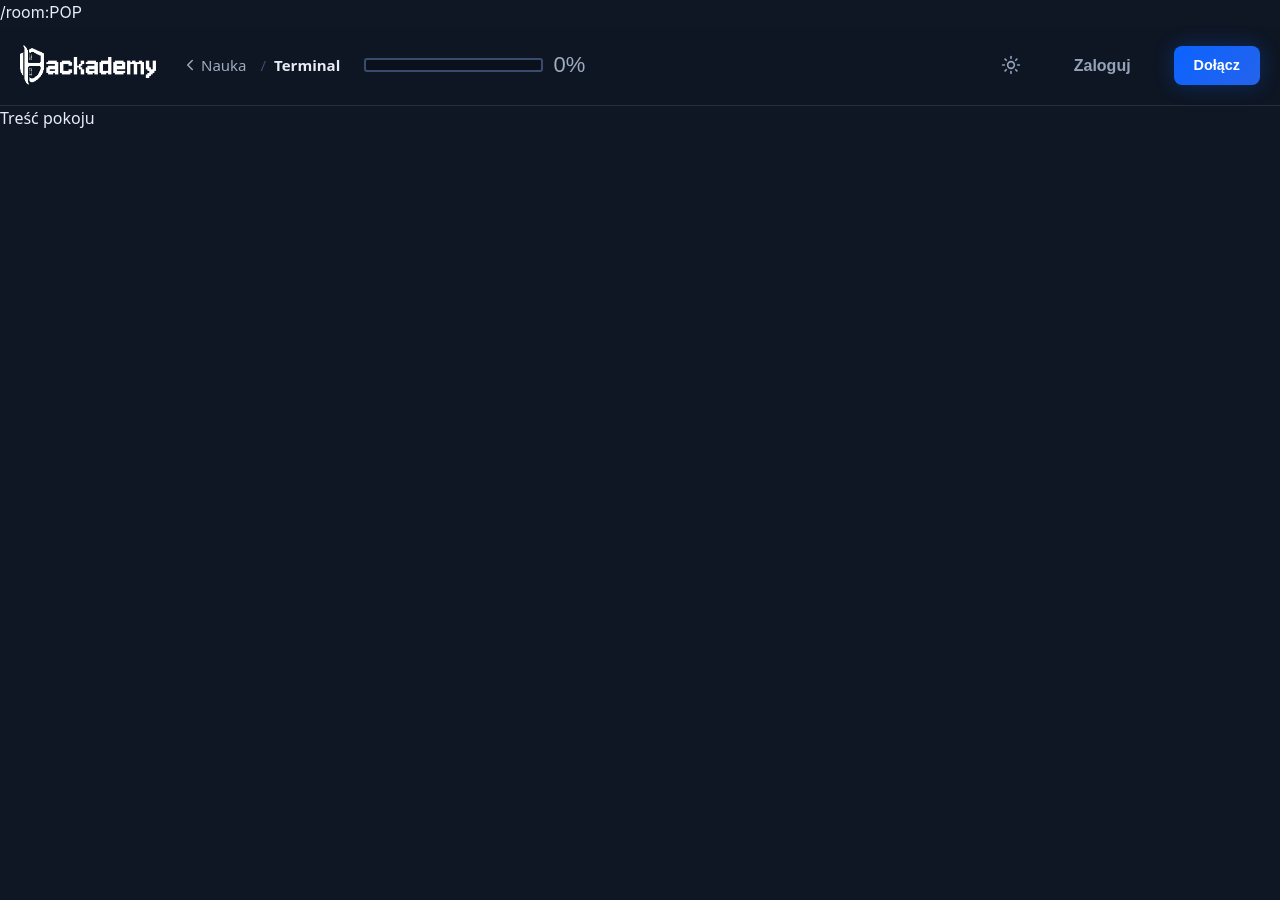
Test: fills the screen with a room and brings the site footer back on other pages
The width and height of the screenshot is (1280, 900).
Check: the text "Regulamin" is not shown
Click the link with aria-label "Wróć do nauki" at [216, 65], box left=179, top=52, right=252, bottom=78
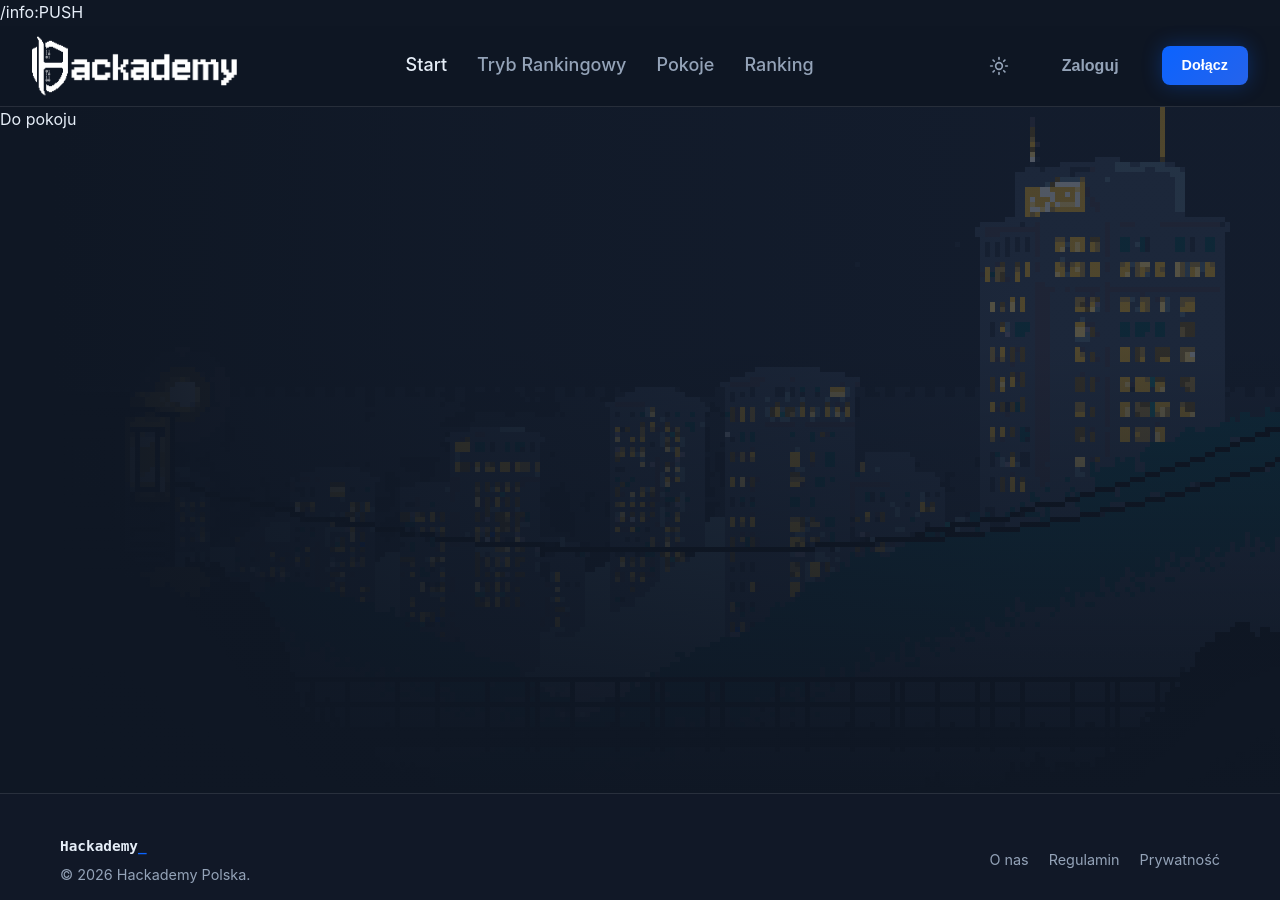
Check: the link "Regulamin" is shown, box left=1049, top=848, right=1120, bottom=871
Click the link "Do pokoju" at [38, 119], box left=0, top=109, right=76, bottom=129
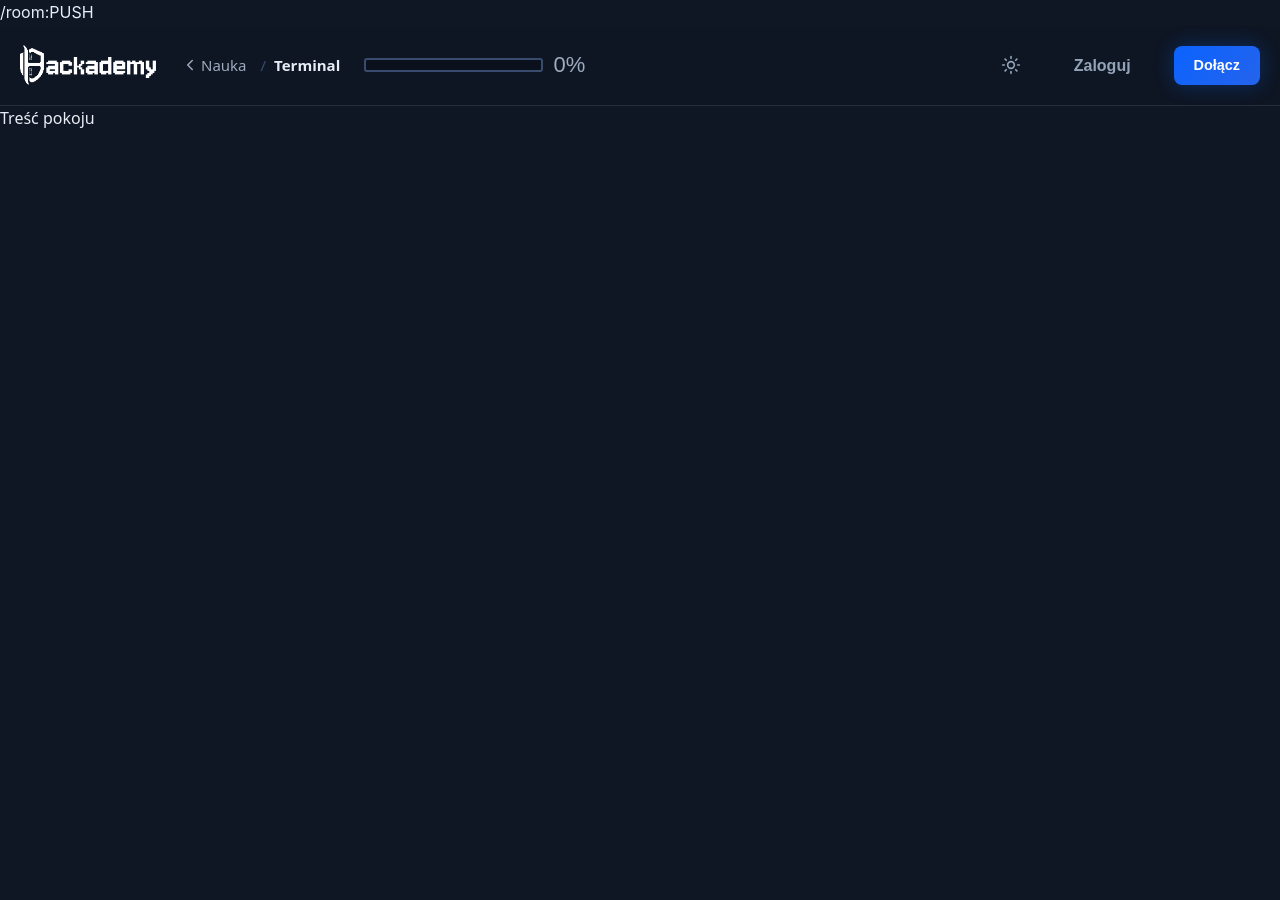
Check: the link with aria-label "Wróć do nauki" is shown, box left=179, top=52, right=252, bottom=78
